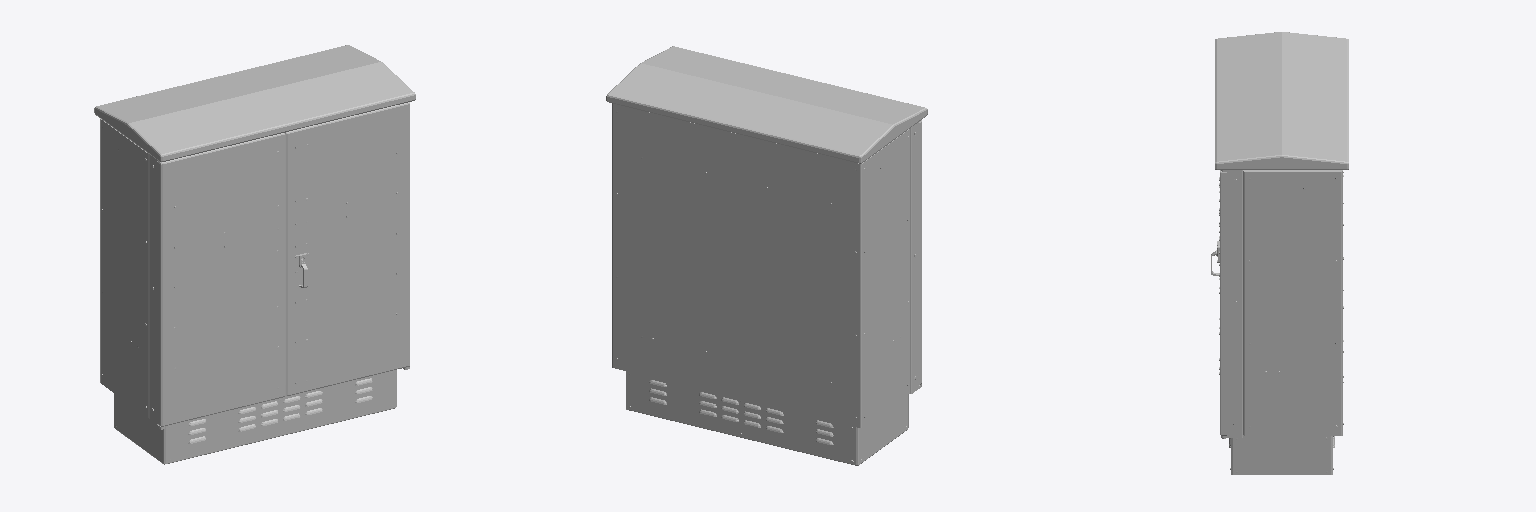
File: utility_box.obj
3 renders of one model, left to right at view 1: azimuth 30°, elevation 25°; view 2: azimuth 150°, elevation 25°; view 3: azimuth 270°, elevation 25°, orthographic.
Visible parts, largest first — view 1: utility_box_02; view 2: utility_box_02; view 3: utility_box_02.
Boxes of the visible parts, box(x1,y1,x2,y2) form: utility_box_02: box(94, 45, 415, 464); utility_box_02: box(606, 46, 927, 465); utility_box_02: box(1211, 32, 1348, 474).
Size of the model in its own units: 0.92 by 1.12 by 0.432.